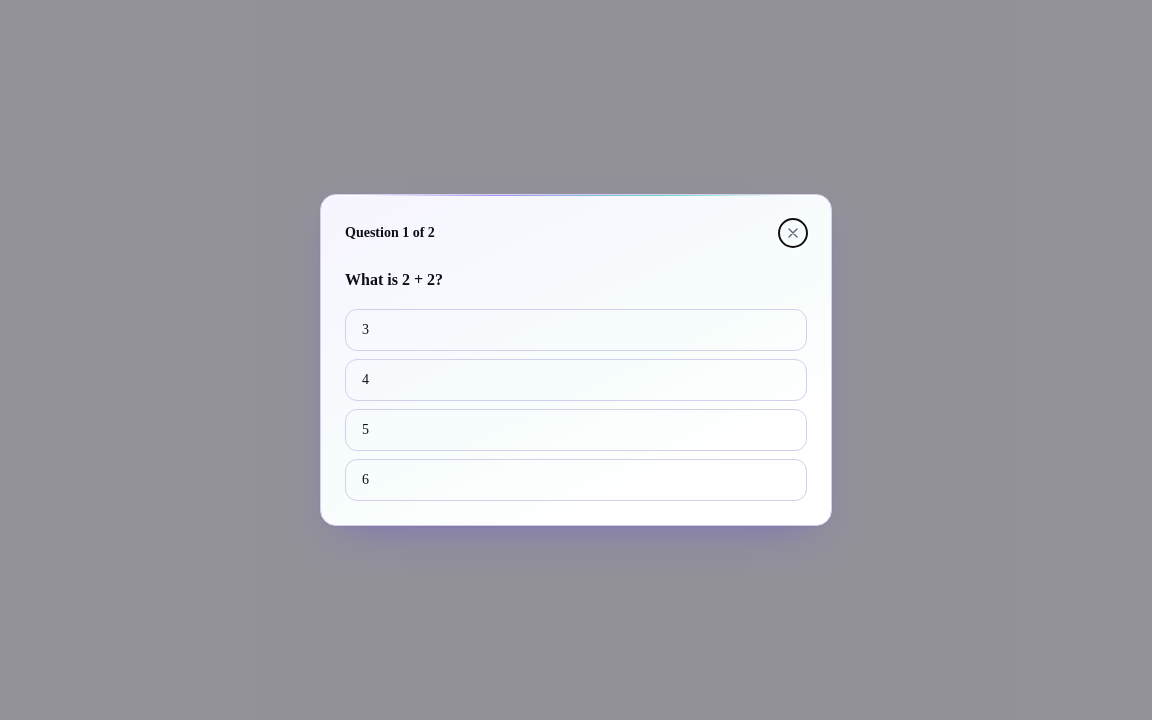
Scenario: QuizSession › reveals the explanation and locks every choice after answering
The width and height of the screenshot is (1152, 720).
Click the button "3" at (366, 330), box [345,309,807,351]
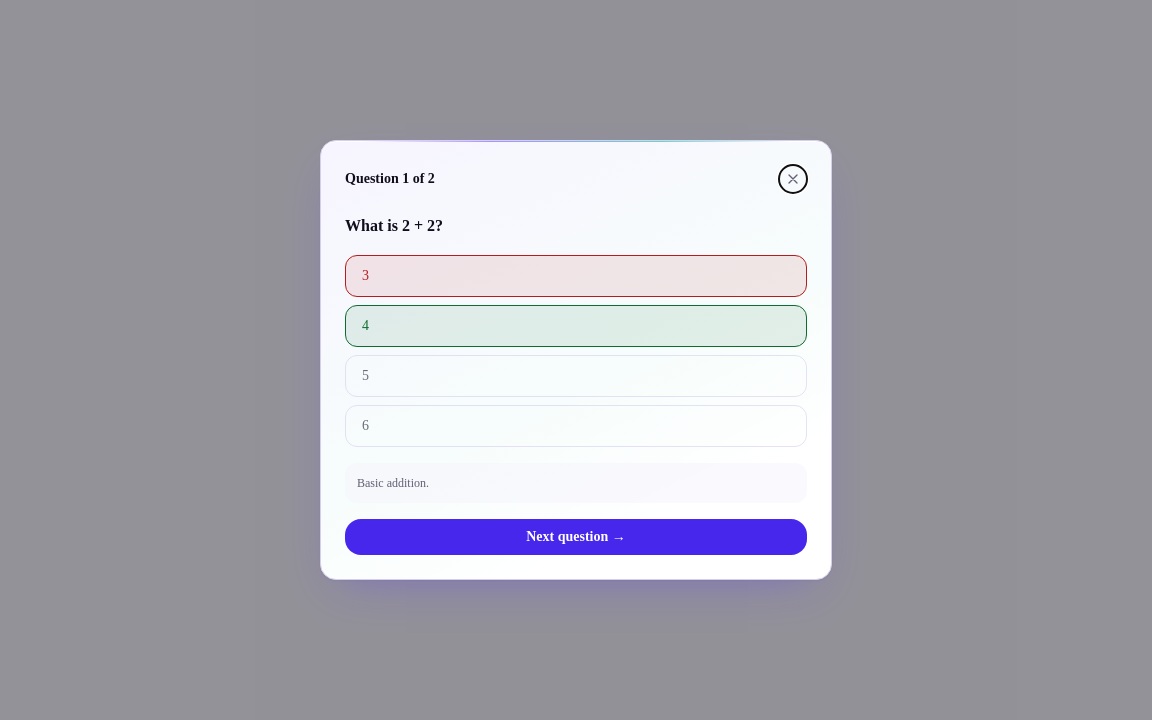
Expected: the text "Basic addition." is shown, [345,463,807,503]
Expected: the button "3" is disabled, [345,255,807,297]
Expected: the button "4" is disabled, [345,305,807,347]
